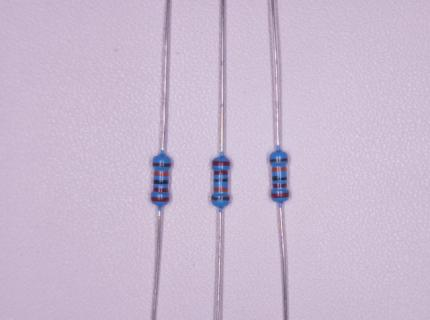Black band: (272, 176, 287, 181), (154, 179, 168, 184), (214, 178, 228, 182)
Brown band: (153, 163, 172, 167), (270, 158, 288, 162), (212, 197, 230, 200)
Orange band: (271, 167, 286, 172), (214, 187, 228, 192), (154, 172, 168, 176)
Red band: (151, 197, 170, 202), (212, 161, 230, 166), (271, 193, 289, 198), (153, 188, 168, 193), (214, 171, 228, 175), (273, 184, 287, 188)
